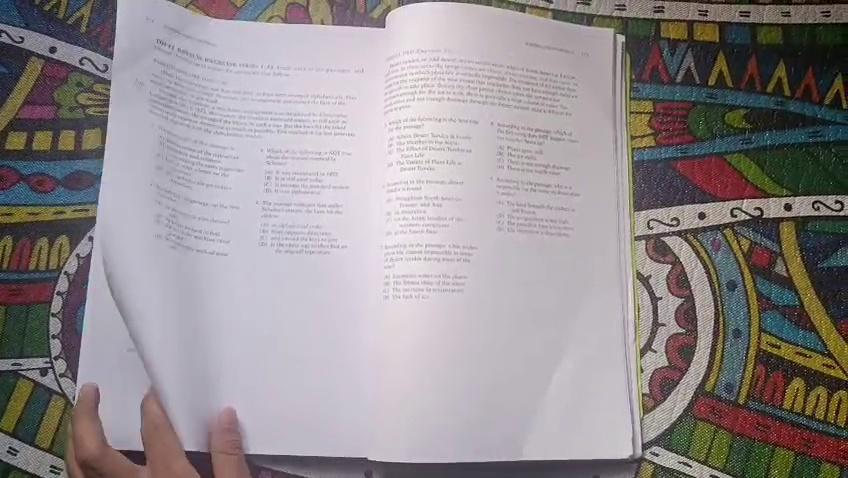Kertas: (368, 33, 622, 471), (114, 25, 415, 384)
